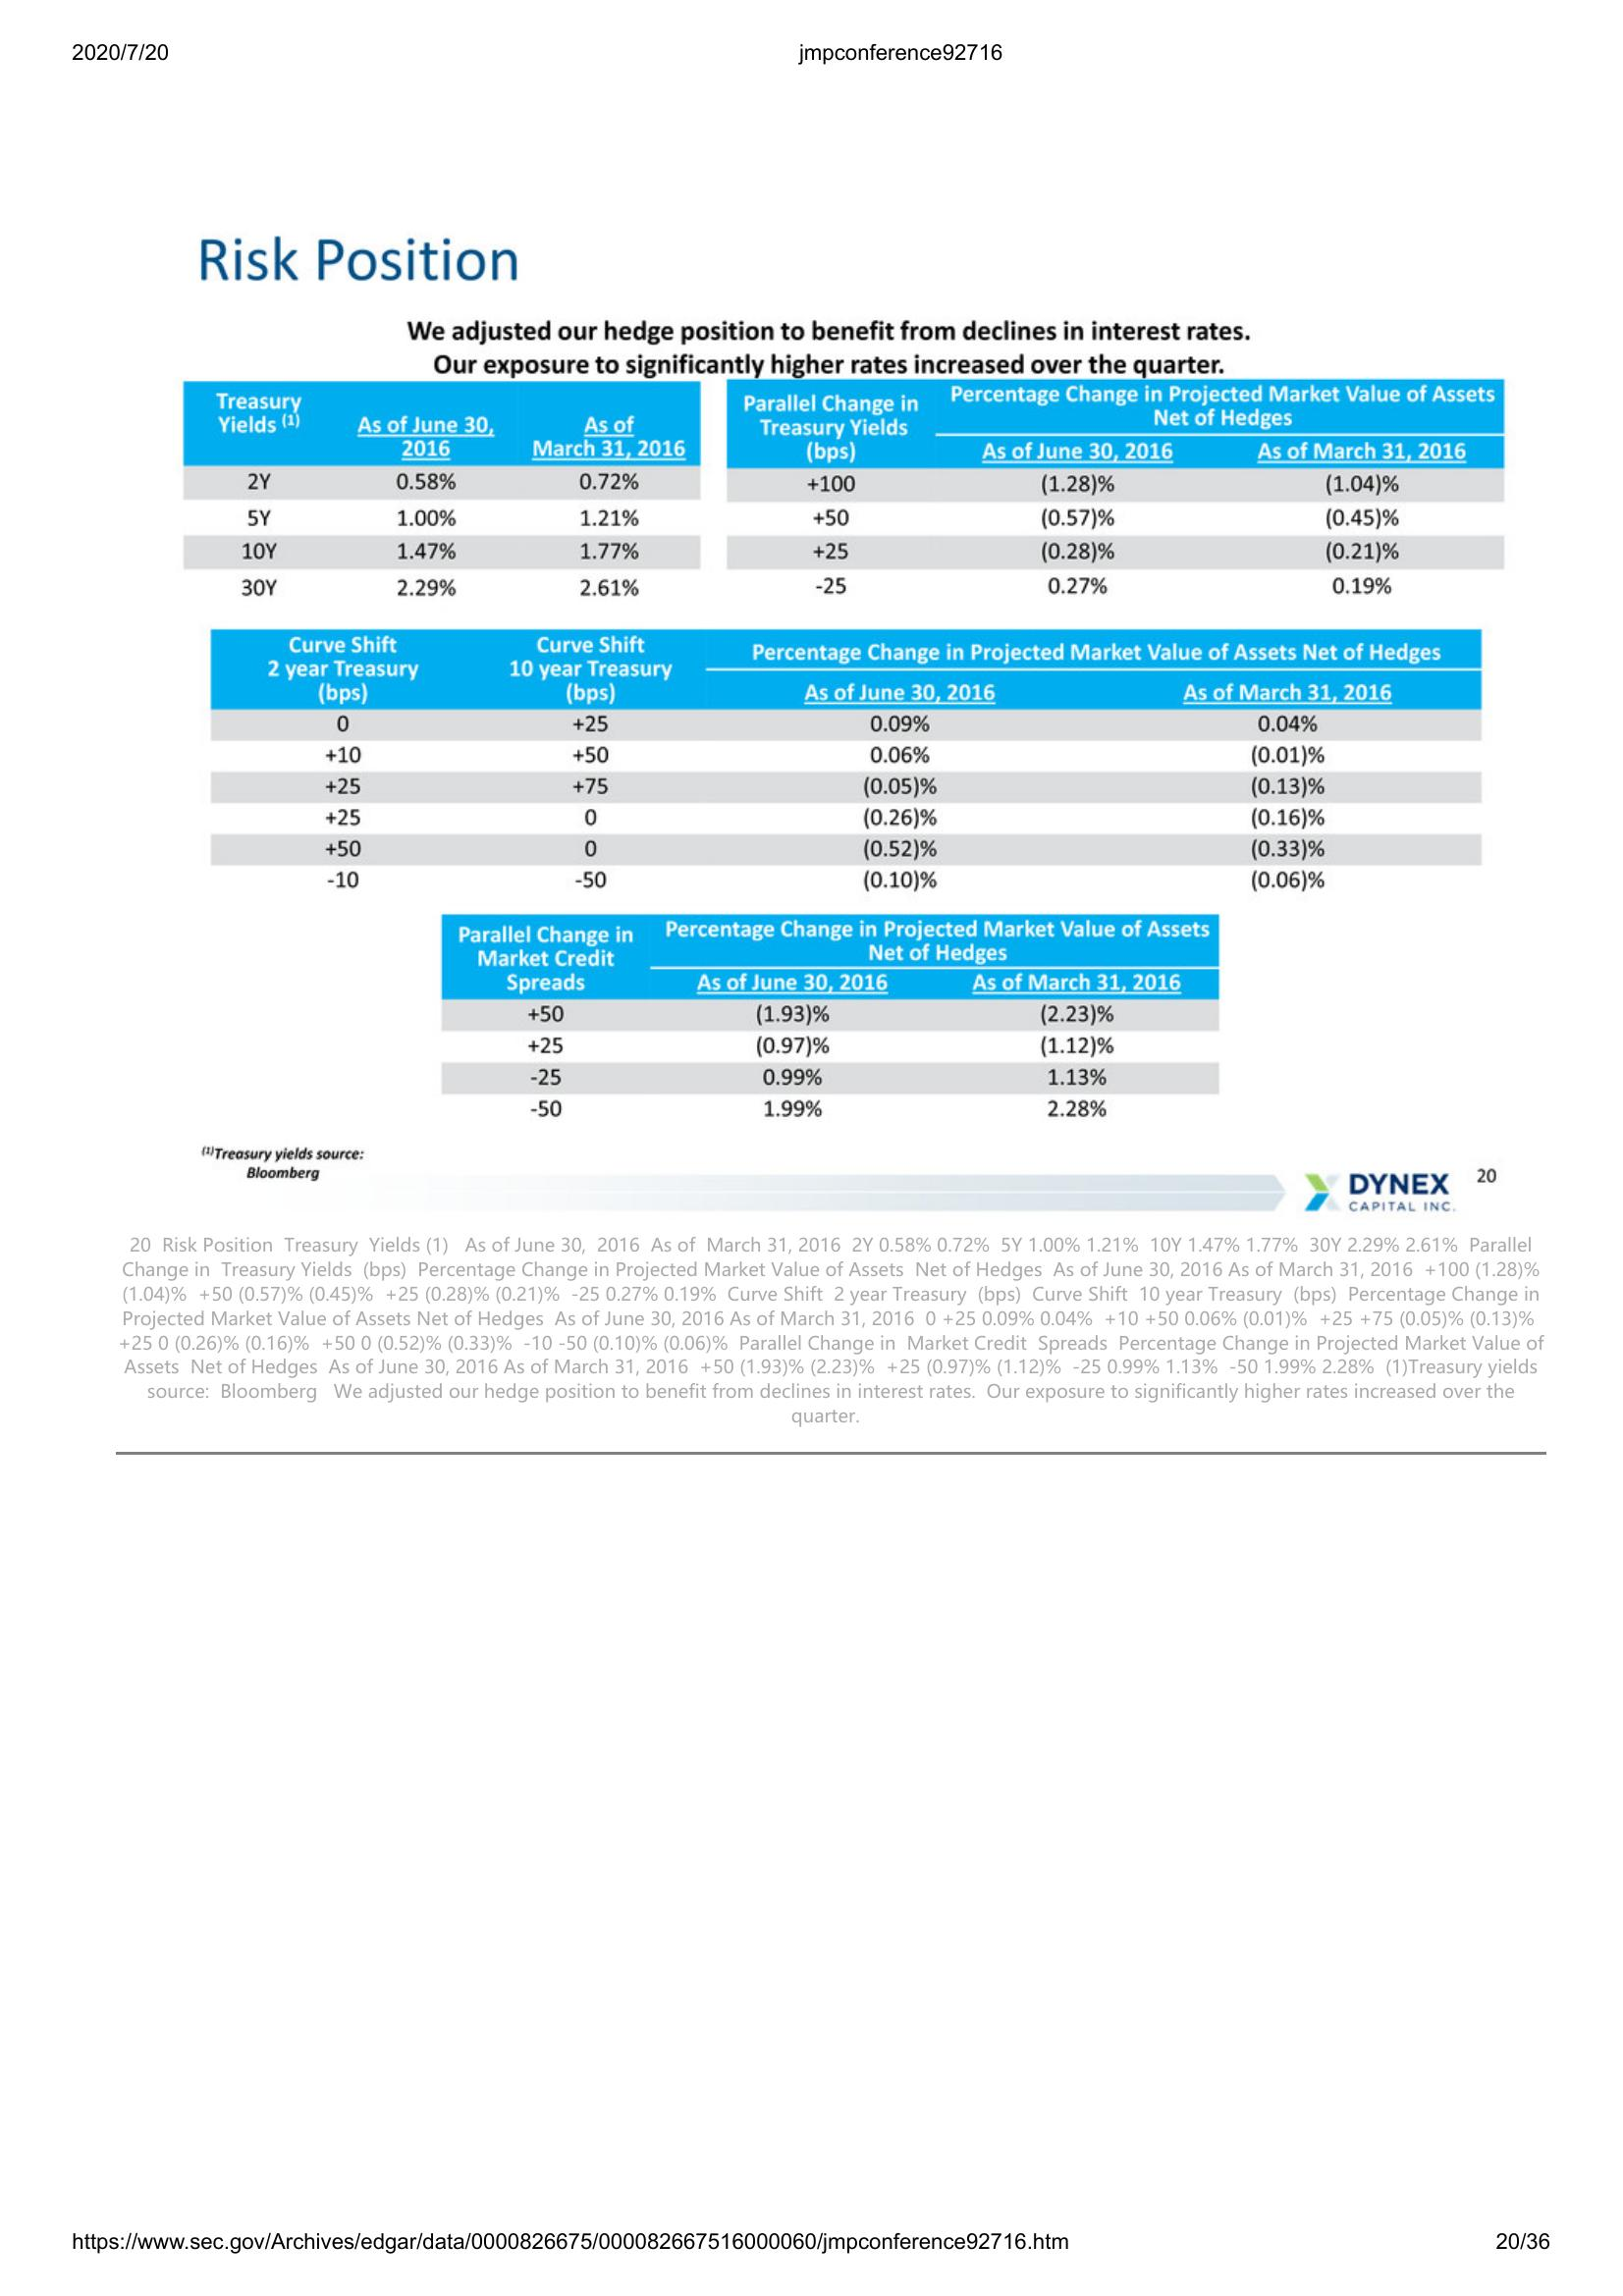table: (206, 625, 1486, 904), (432, 906, 1224, 1139), (725, 376, 1512, 600), (172, 377, 706, 604)
